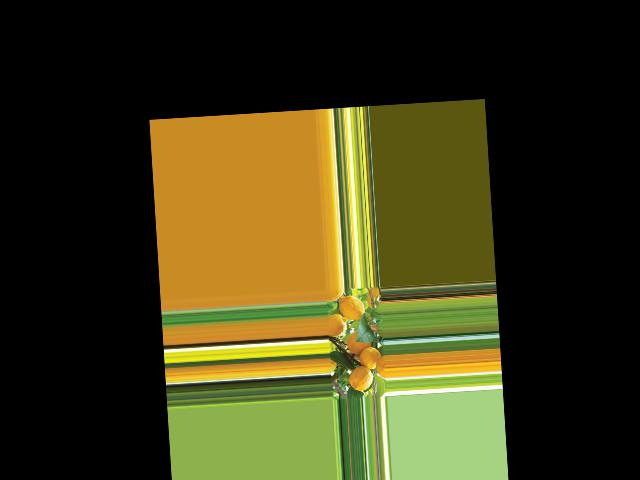lemon: (349, 363, 376, 393)
